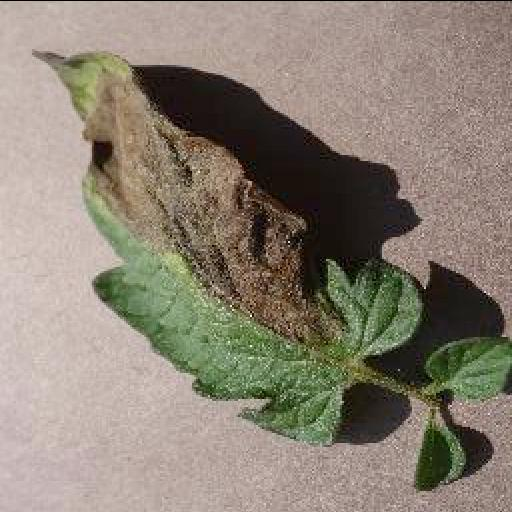disease_tomato: (30, 44, 418, 448)
